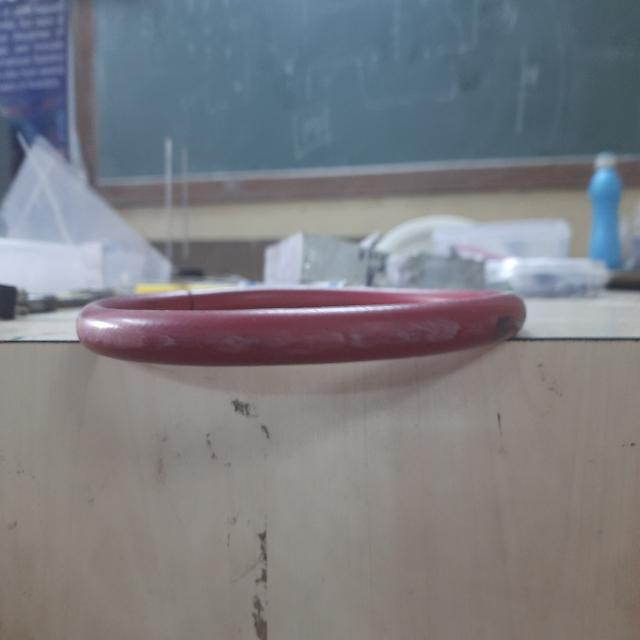daire: (86, 289, 518, 359)
